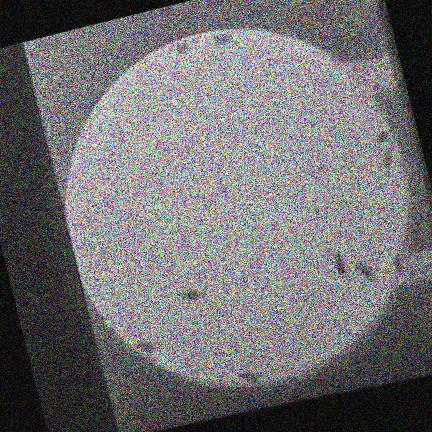fly: (355, 263, 375, 281), (332, 250, 345, 276), (176, 290, 204, 301), (133, 339, 154, 353), (238, 372, 261, 384), (380, 148, 392, 169), (211, 34, 232, 45), (392, 254, 403, 272), (174, 42, 187, 54), (375, 132, 387, 144)
